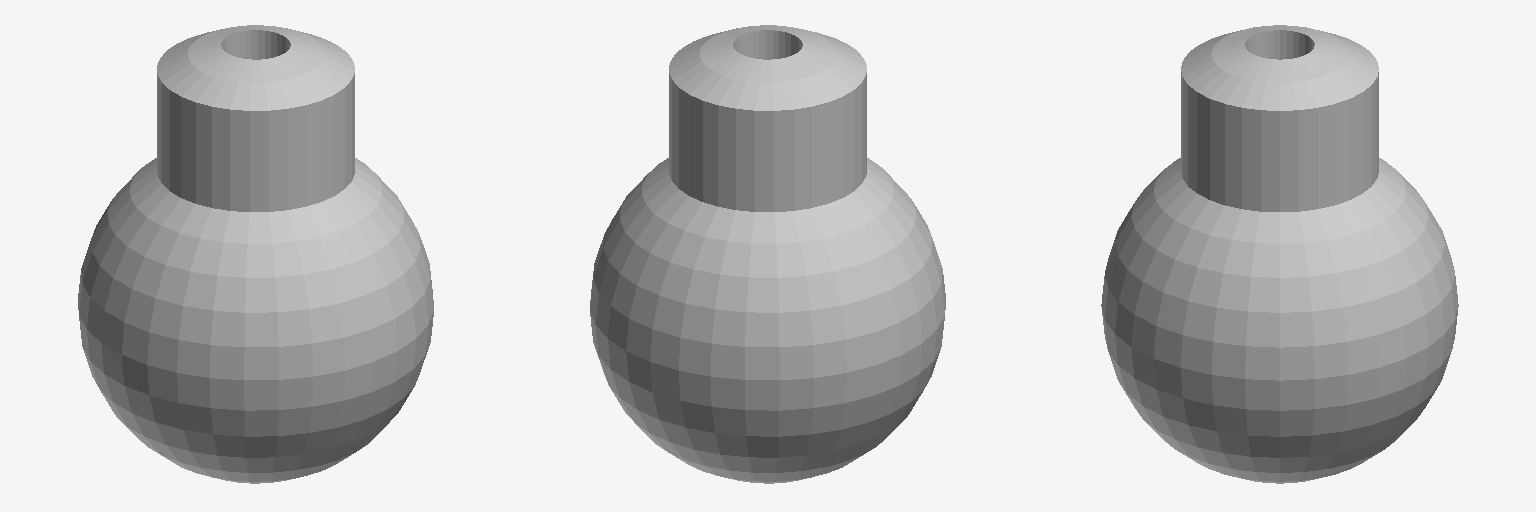
Rendered from ball.obj.
3 views of the same model, side by side, from view 1: azimuth 30°, elevation 25°; view 2: azimuth 150°, elevation 25°; view 3: azimuth 270°, elevation 25° (orthographic).
Visible parts, largest first — view 1: Sphere; view 2: Sphere; view 3: Sphere.
Part boxes in pixels (x1,y1,x2,y2): Sphere: (78, 25, 433, 483); Sphere: (590, 25, 945, 483); Sphere: (1101, 25, 1458, 483).
Size of the model in its own units: 2 by 2.61 by 2.